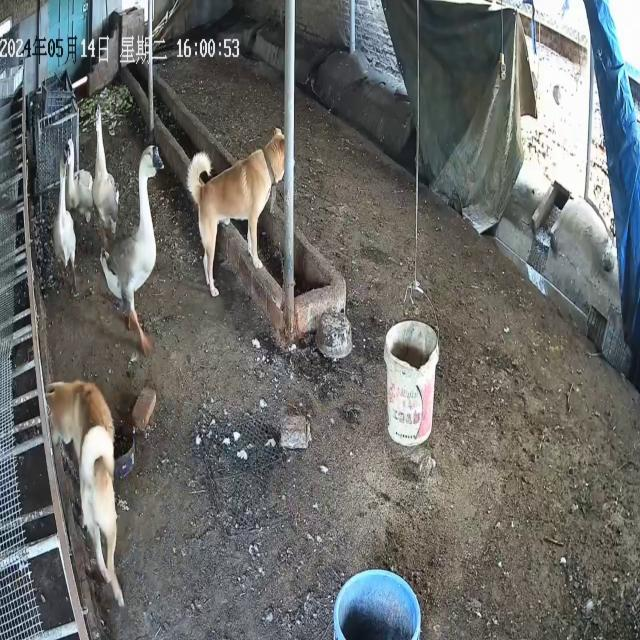dog: (46, 380, 126, 608), (187, 127, 286, 299)
